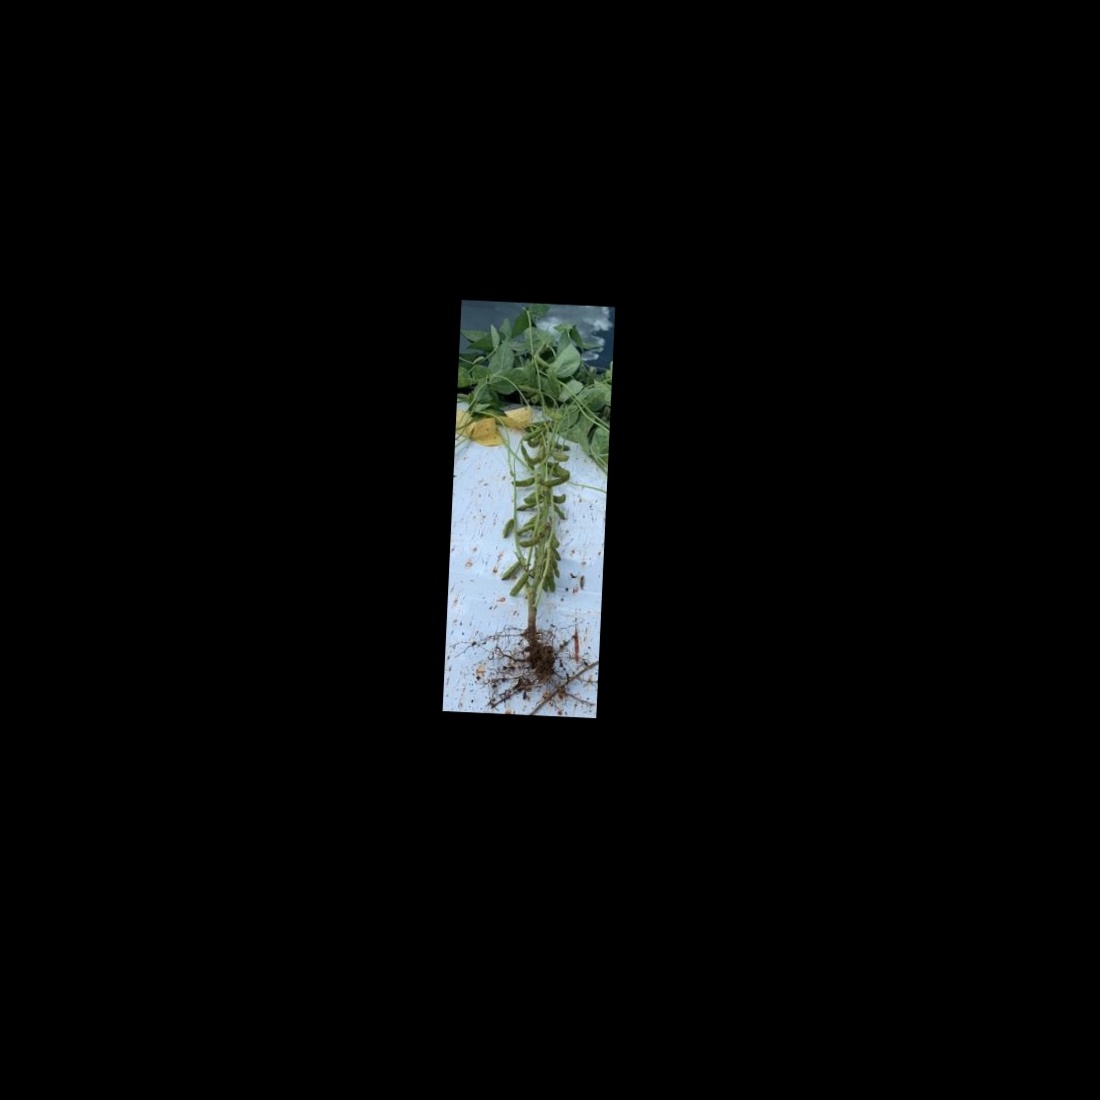pod: (507, 568, 531, 601), (499, 558, 521, 583), (508, 472, 537, 491), (518, 532, 543, 549), (542, 474, 572, 489), (500, 517, 515, 541), (547, 559, 564, 579), (548, 449, 572, 462)
soy: (455, 304, 604, 697)
